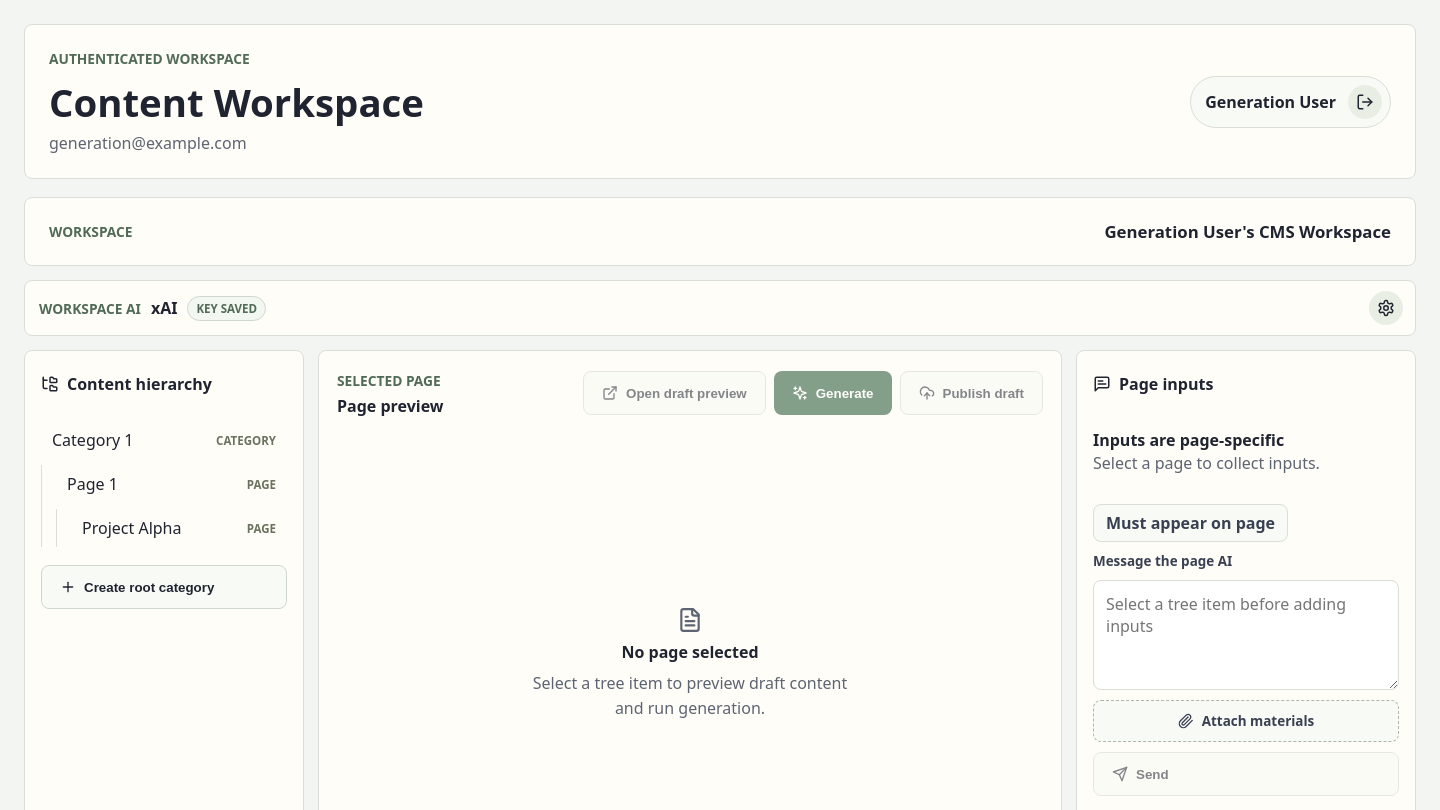
Test: generate action and generation visibility › shows failed generation without replacing the existing draft
The image size is (1440, 810).
Click the button "Page 1 page": [172, 484] box x1=56 y1=465 x2=287 y2=503
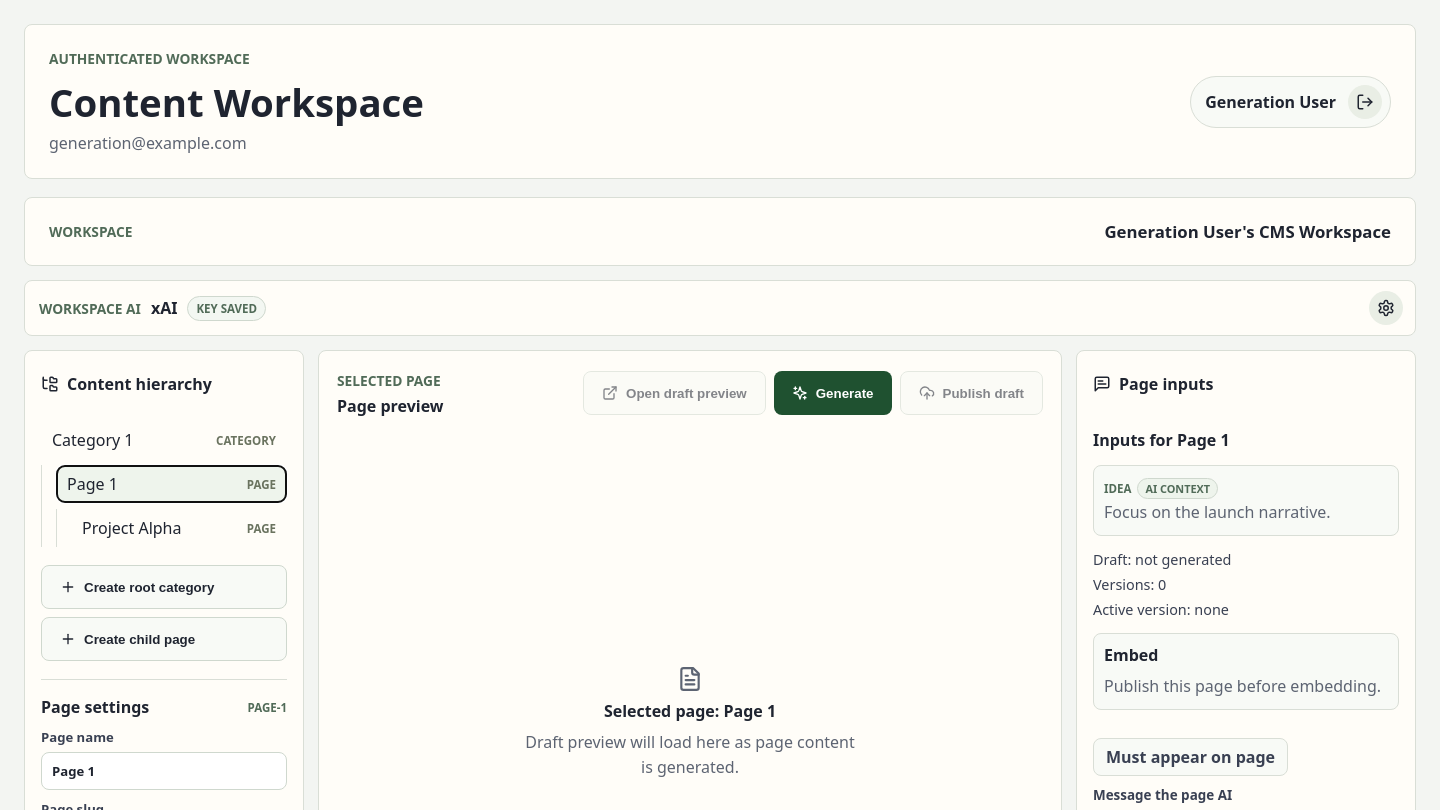
Click the button "Generate": [833, 393] box x1=774 y1=371 x2=892 y2=415
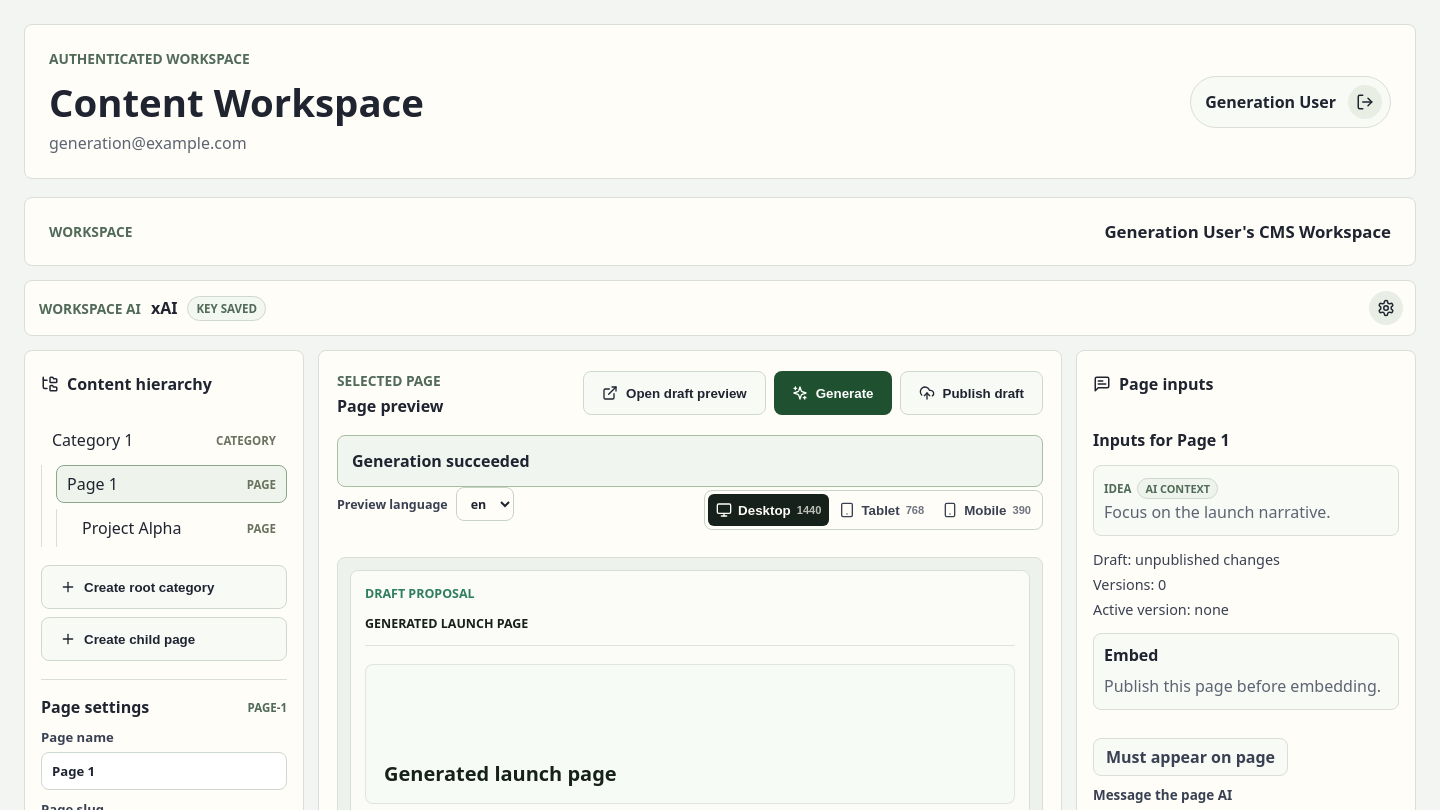
expect the text "Generation succeeded" is shown: met, box x1=352 y1=450 x2=530 y2=472
Click the button "Generate": [833, 393] box x1=774 y1=371 x2=892 y2=415
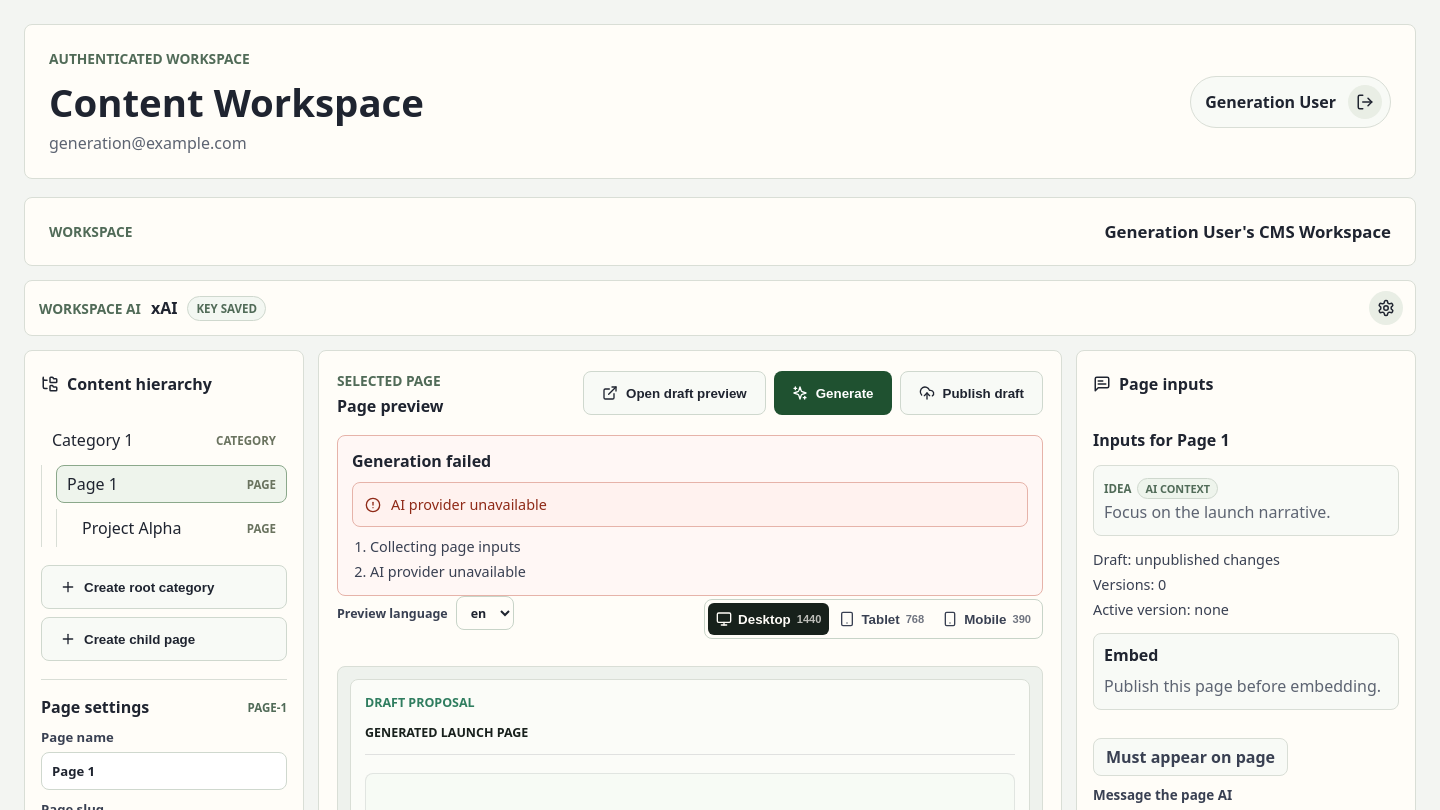
expect the message reads "AI provider unavailable": met, box x1=391 y1=495 x2=547 y2=514
